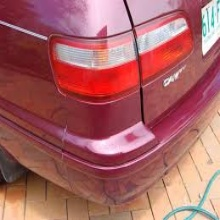no damage: (1, 1, 220, 207)
